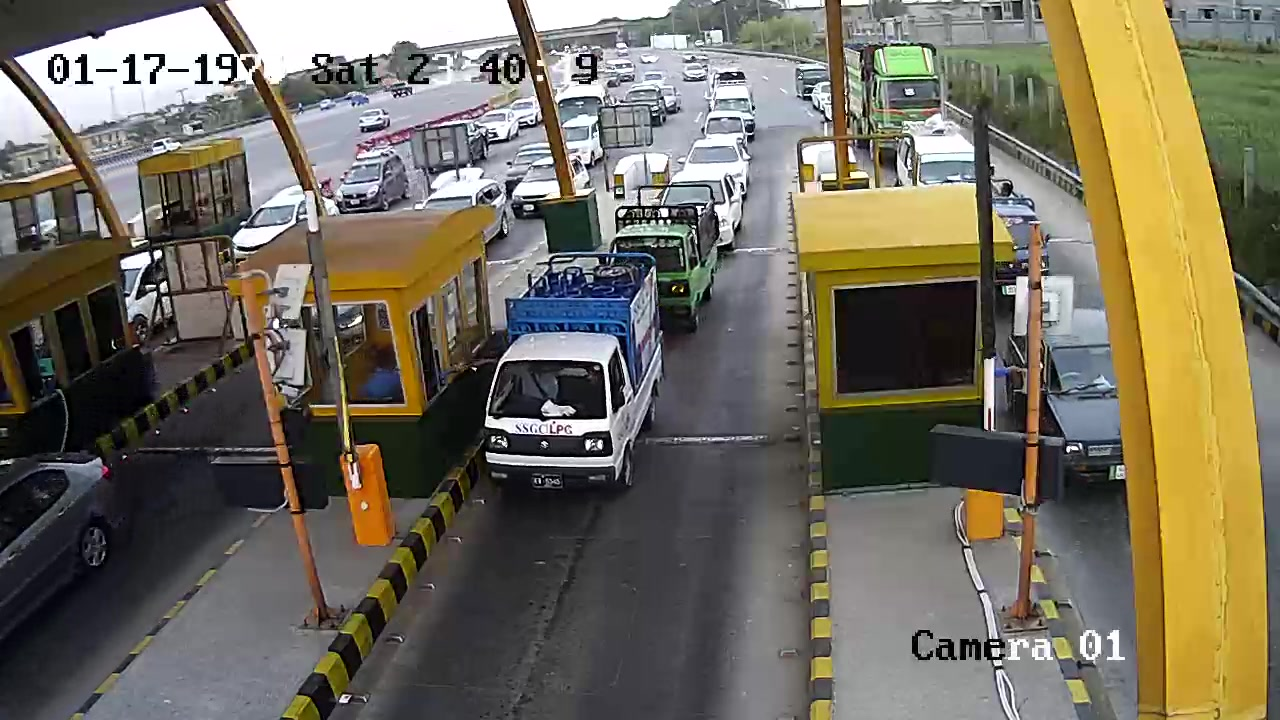F1: (475, 243, 661, 513)
